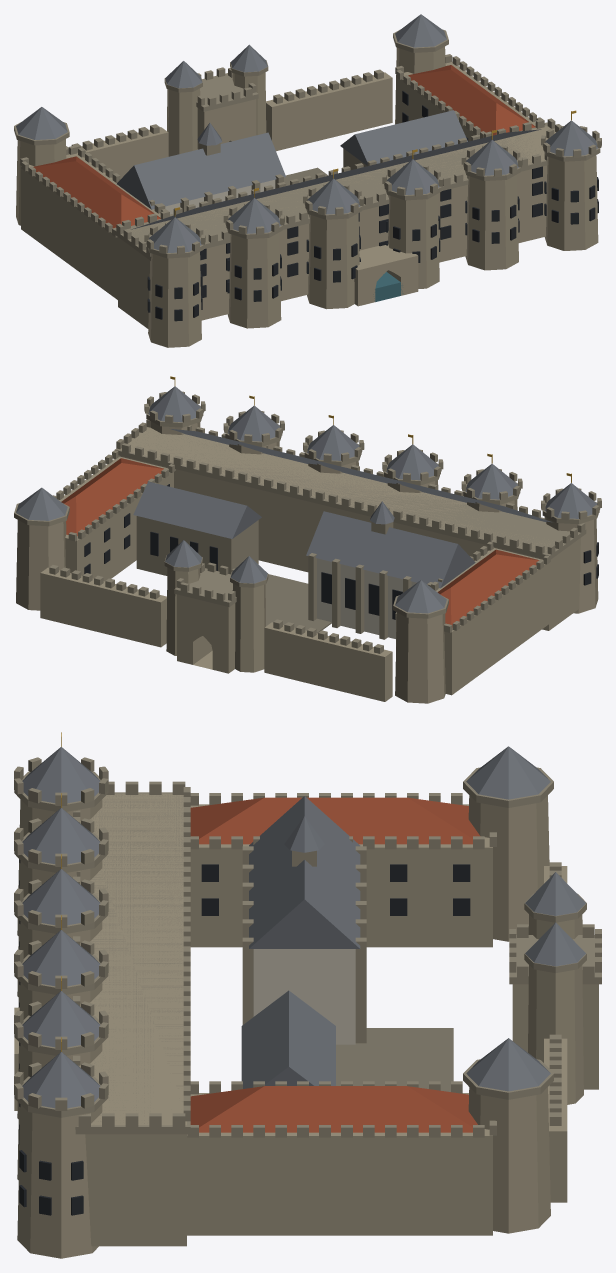
The model's file is baynards_castle.glb.
The picture shows the model from 3 angles, top to bottom: view 1: azimuth 30°, elevation 25°; view 2: azimuth 150°, elevation 25°; view 3: azimuth 270°, elevation 25°; orthographic projection. The views are drawn at different scales.
Visible parts, largest first — view 1: baynards_castle; view 2: baynards_castle; view 3: baynards_castle.
Part boxes in pixels (x1,y1,x2,y2): baynards_castle: (14, 14, 601, 347); baynards_castle: (14, 376, 601, 703); baynards_castle: (14, 732, 601, 1258).
Size of the model in its own units: 104 by 28.9 by 74.93.
